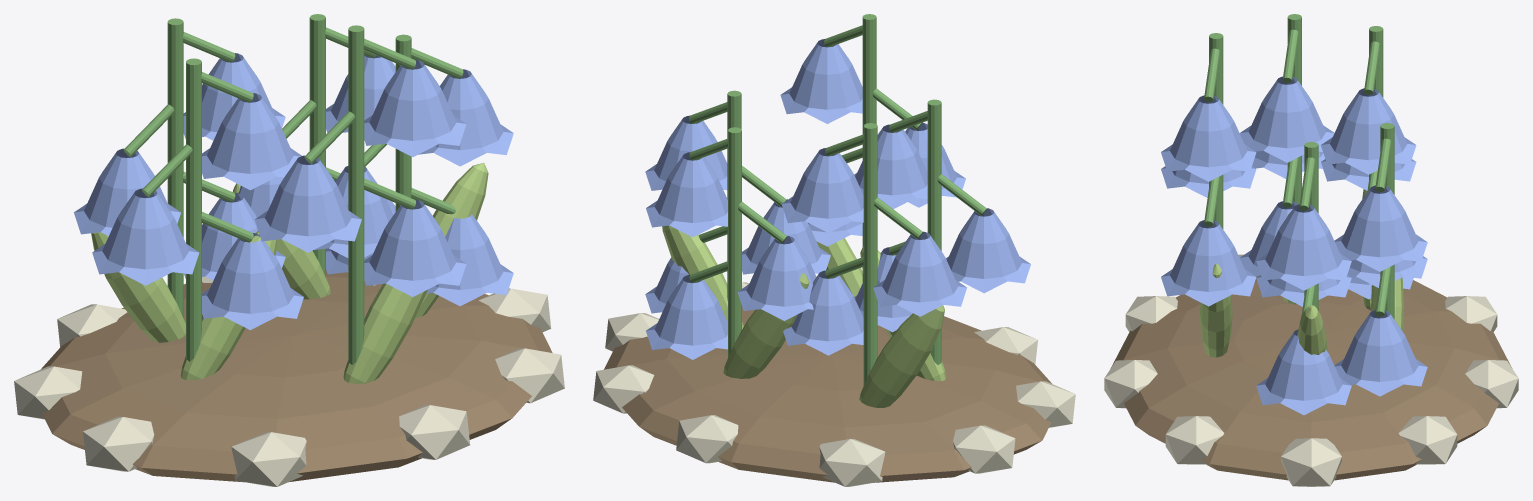
Rendered from Bluebell3.fbx.
3 renders of one model, left to right at view 1: azimuth 30°, elevation 25°; view 2: azimuth 150°, elevation 25°; view 3: azimuth 270°, elevation 25°, orthographic. The views are drawn at different scales.
Parts seen in each view (by area): view 1: Oval garden bed.005, Scalloped blue bell.028, Scalloped blue bell.034, Scalloped blue bell.029, Scalloped blue bell.027, Scalloped blue bell.035, Scalloped blue bell.033, Bluebell stalk.009, Bluebell stalk.011, Scalloped blue bell.021, Upright stem leaf.024, Scalloped blue bell.023 (+30 smaller); view 2: Oval garden bed.005, Scalloped blue bell.025, Scalloped blue bell.027, Scalloped blue bell.024, Scalloped blue bell.030, Scalloped blue bell.032, Scalloped blue bell.034, Upright stem leaf.023, Scalloped blue bell.026, Scalloped blue bell.031, Bluebell stalk.008, Scalloped blue bell.033 (+25 smaller); view 3: Oval garden bed.005, Scalloped blue bell.027, Scalloped blue bell.021, Scalloped blue bell.029, Scalloped blue bell.032, Scalloped blue bell.030, Scalloped blue bell.033, Scalloped blue bell.023, Scalloped blue bell.024, Bed edging pebble.045, Bed edging pebble.046, Bed edging pebble.053 (+27 smaller).
Boxes of the visible parts, x1,y1,x2,y2 form: Oval garden bed.005: [41, 269, 552, 482]; Scalloped blue bell.028: [254, 155, 361, 252]; Scalloped blue bell.034: [92, 188, 199, 285]; Scalloped blue bell.029: [364, 200, 466, 296]; Scalloped blue bell.027: [364, 60, 466, 156]; Scalloped blue bell.035: [202, 233, 303, 330]; Scalloped blue bell.033: [202, 93, 301, 190]; Bluebell stalk.009: [348, 25, 364, 364]; Bluebell stalk.011: [186, 58, 201, 361]; Scalloped blue bell.021: [418, 69, 513, 166]; Upright stem leaf.024: [343, 283, 427, 383]; Scalloped blue bell.023: [426, 214, 513, 306]; Oval garden bed.005: [604, 306, 1051, 482]; Scalloped blue bell.025: [873, 231, 966, 316]; Scalloped blue bell.027: [780, 39, 862, 123]; Scalloped blue bell.024: [781, 148, 863, 232]; Scalloped blue bell.030: [646, 152, 727, 237]; Scalloped blue bell.032: [646, 275, 727, 359]; Scalloped blue bell.034: [946, 208, 1030, 293]; Upright stem leaf.023: [859, 305, 944, 407]; Scalloped blue bell.026: [783, 270, 863, 355]; Scalloped blue bell.031: [737, 236, 816, 320]; Bluebell stalk.008: [863, 123, 877, 385]; Scalloped blue bell.033: [854, 124, 927, 208]; Oval garden bed.005: [1110, 276, 1512, 480]; Scalloped blue bell.027: [1161, 95, 1256, 181]; Scalloped blue bell.021: [1256, 204, 1351, 290]; Scalloped blue bell.029: [1161, 220, 1256, 306]; Scalloped blue bell.032: [1334, 310, 1427, 396]; Scalloped blue bell.030: [1334, 185, 1427, 271]; Scalloped blue bell.033: [1239, 76, 1334, 162]; Scalloped blue bell.023: [1256, 329, 1351, 415]; Scalloped blue bell.024: [1321, 88, 1416, 174]; Bed edging pebble.045: [1281, 438, 1341, 486]; Bed edging pebble.046: [1398, 416, 1457, 464]; Bed edging pebble.053: [1165, 416, 1224, 464].
Size of the model in its own units: 171 by 139 by 139.
